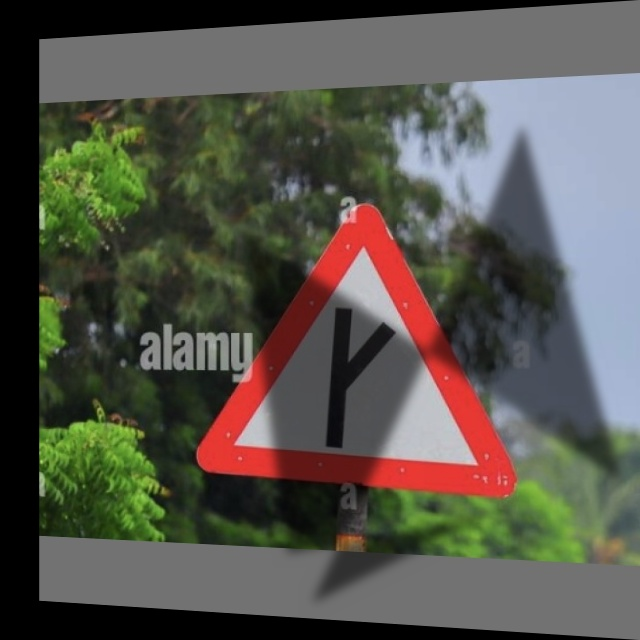Y_Intersection: (199, 206, 512, 493)
